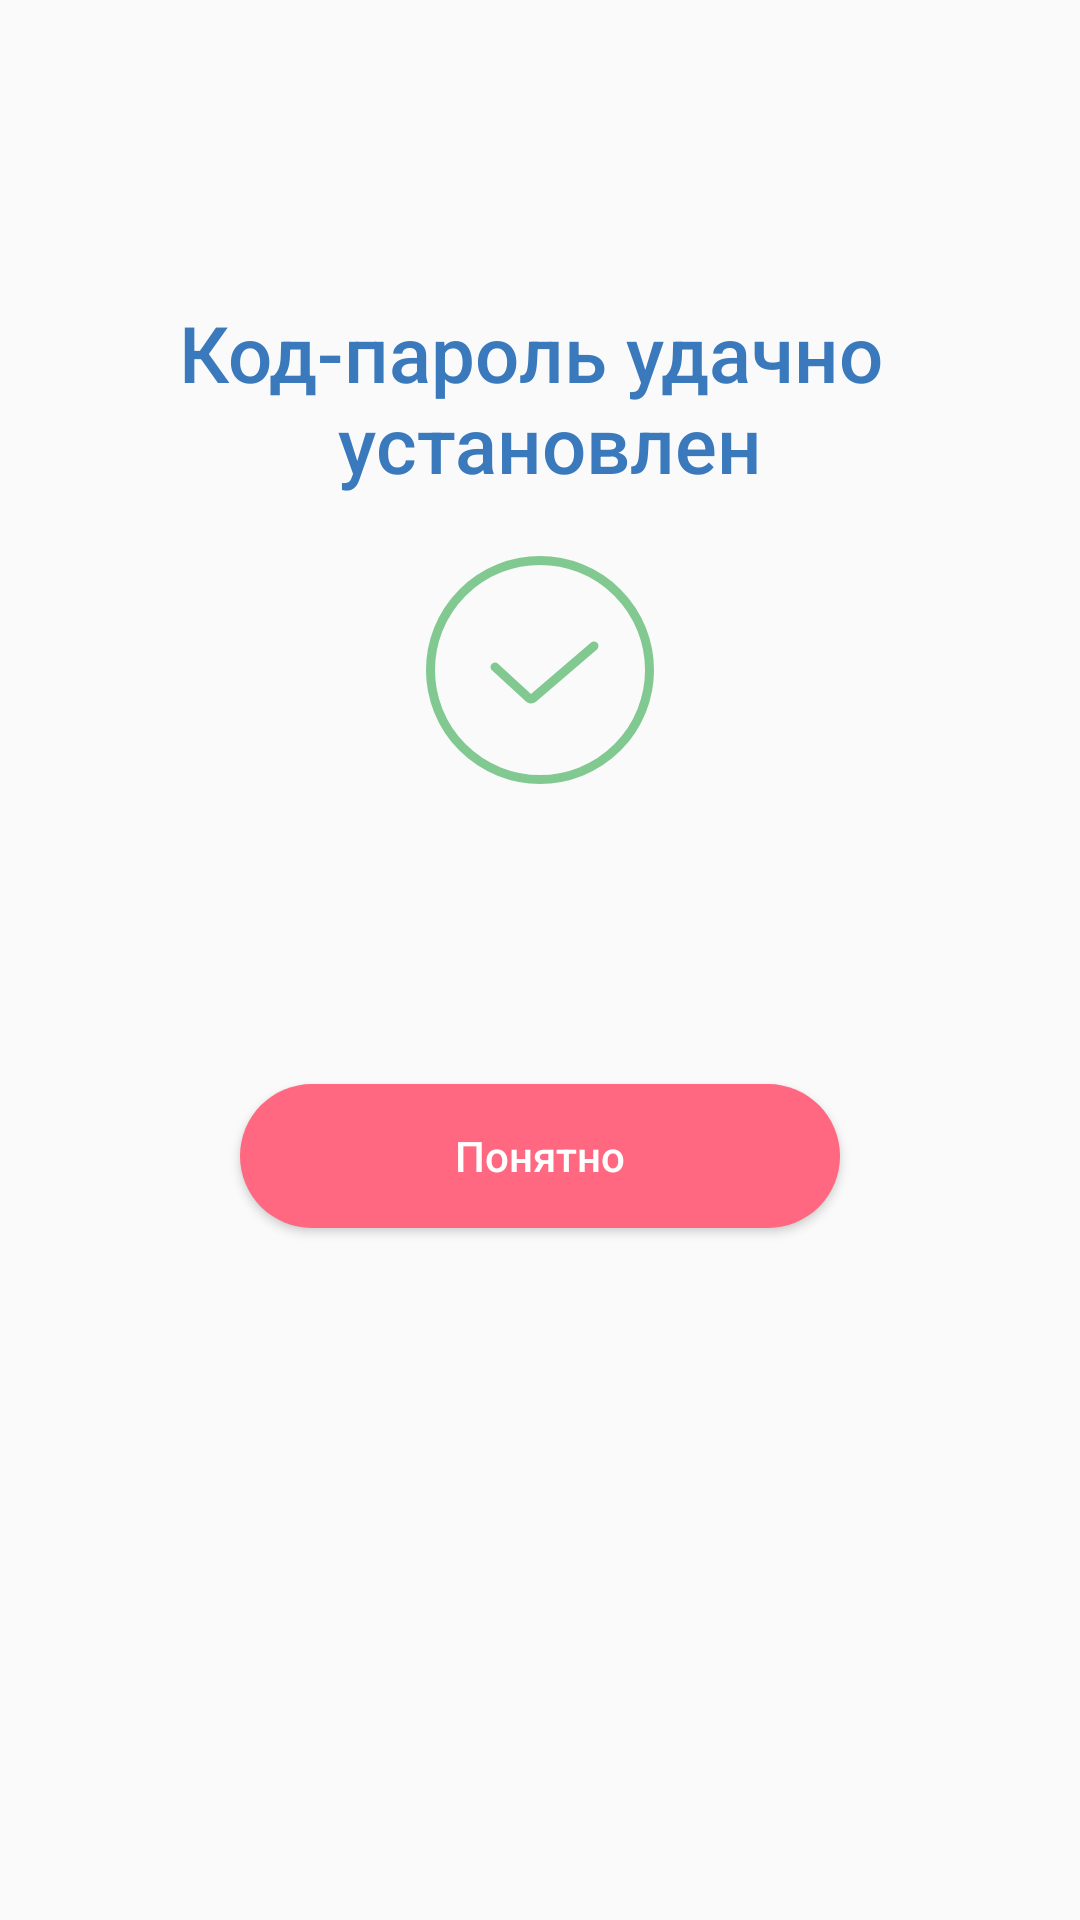

Named icons in this screenshot (1080 × 1920) and their centers, point (x, y):
success: point (540, 670)
